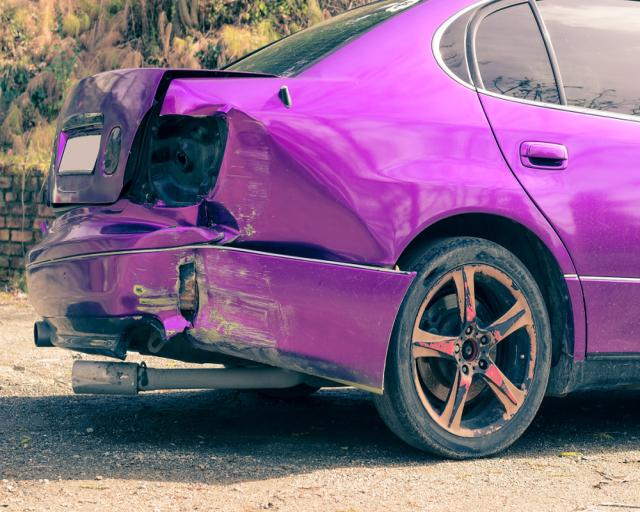crack: (175, 261, 201, 331)
dent: (212, 108, 388, 262), (115, 228, 207, 339)
scratch: (190, 246, 278, 353)
